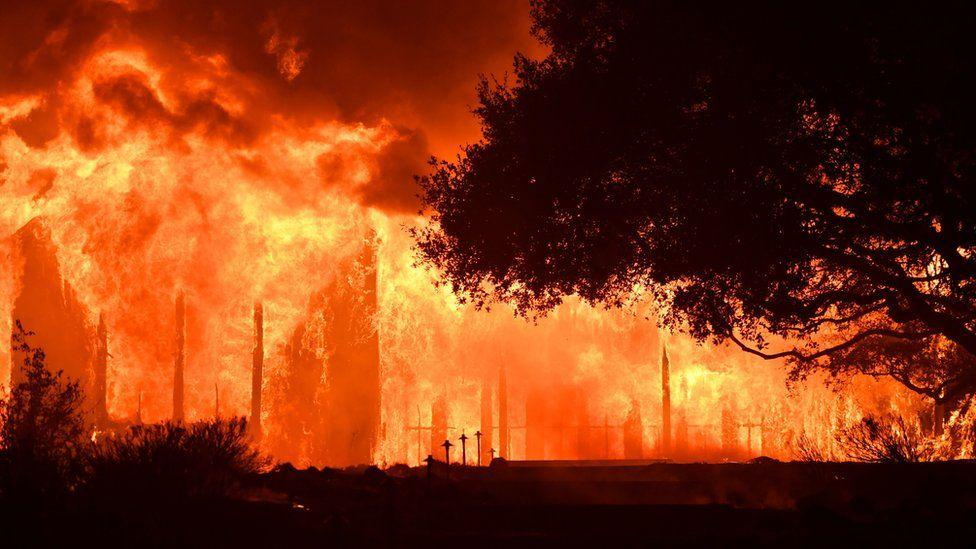fire: (26, 9, 427, 478), (440, 318, 809, 455)
